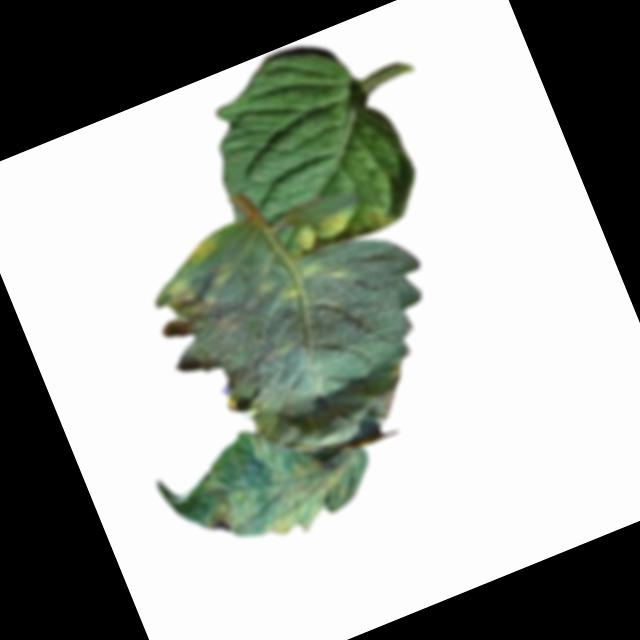Leaf_Mold: (235, 402, 359, 543), (149, 258, 252, 356), (281, 186, 396, 264), (196, 481, 267, 543), (181, 233, 223, 269)
